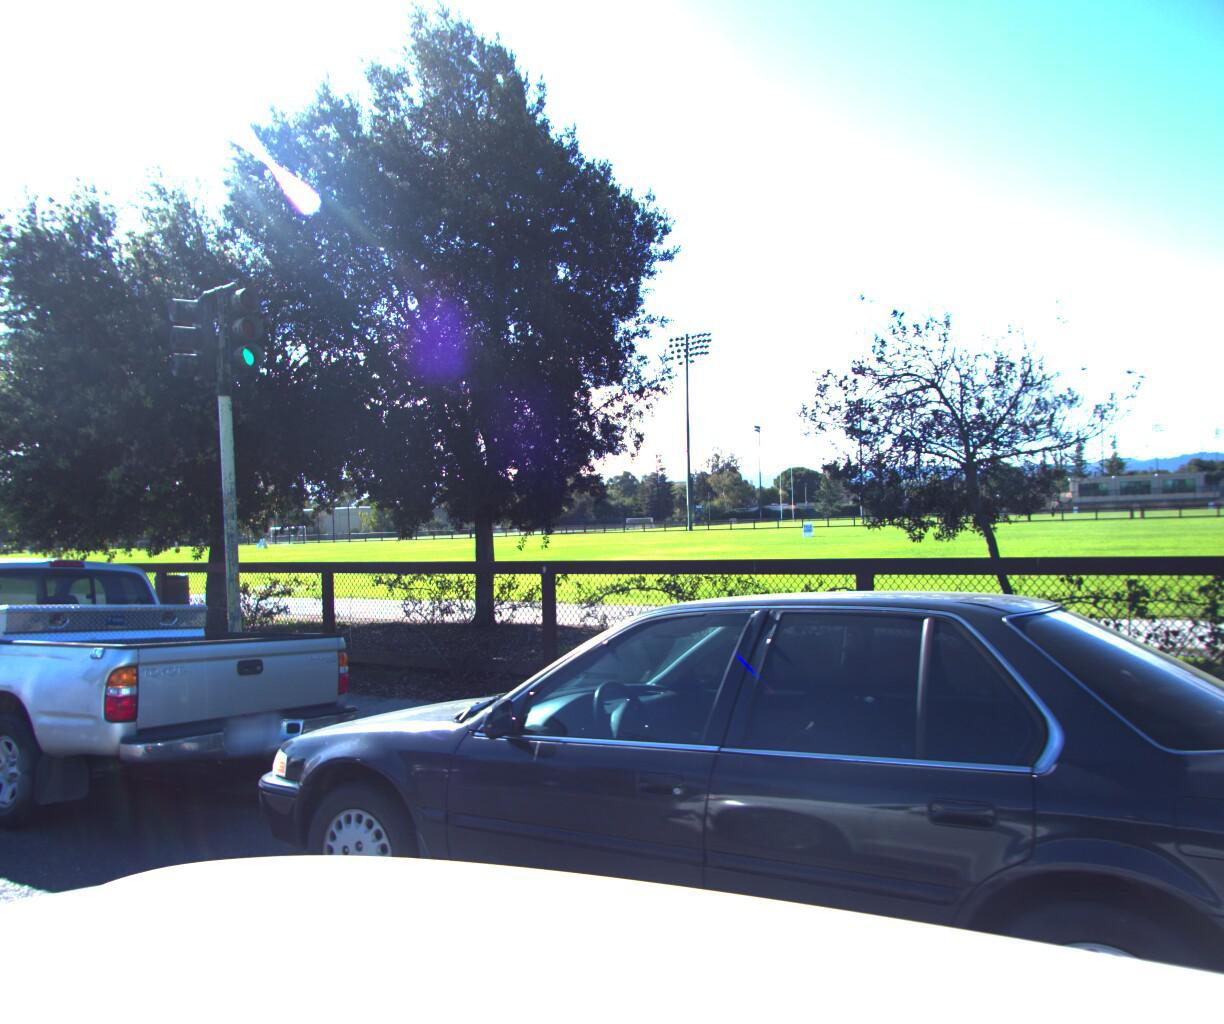car: (189, 565, 1224, 1024), (0, 536, 392, 897)
